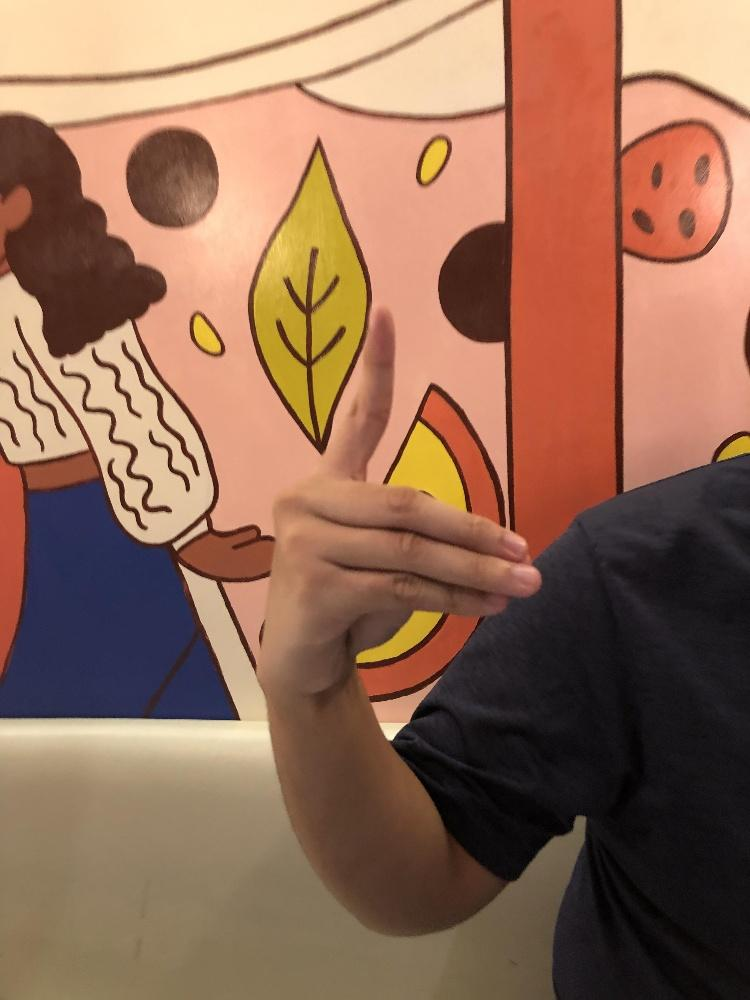d: (257, 300, 543, 691)
